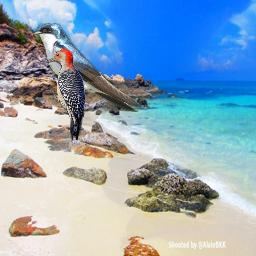Swallow: (33, 23, 141, 112)
Woodpecker: (44, 48, 85, 140)
